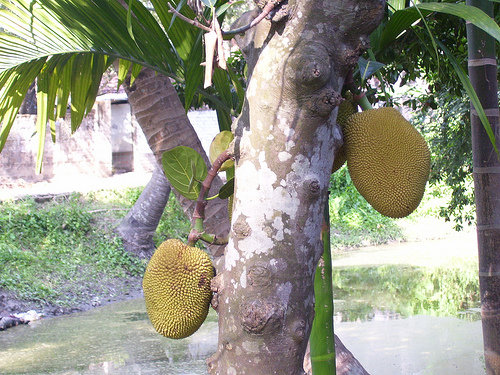jackfruit: (342, 107, 433, 219), (144, 237, 214, 340)
